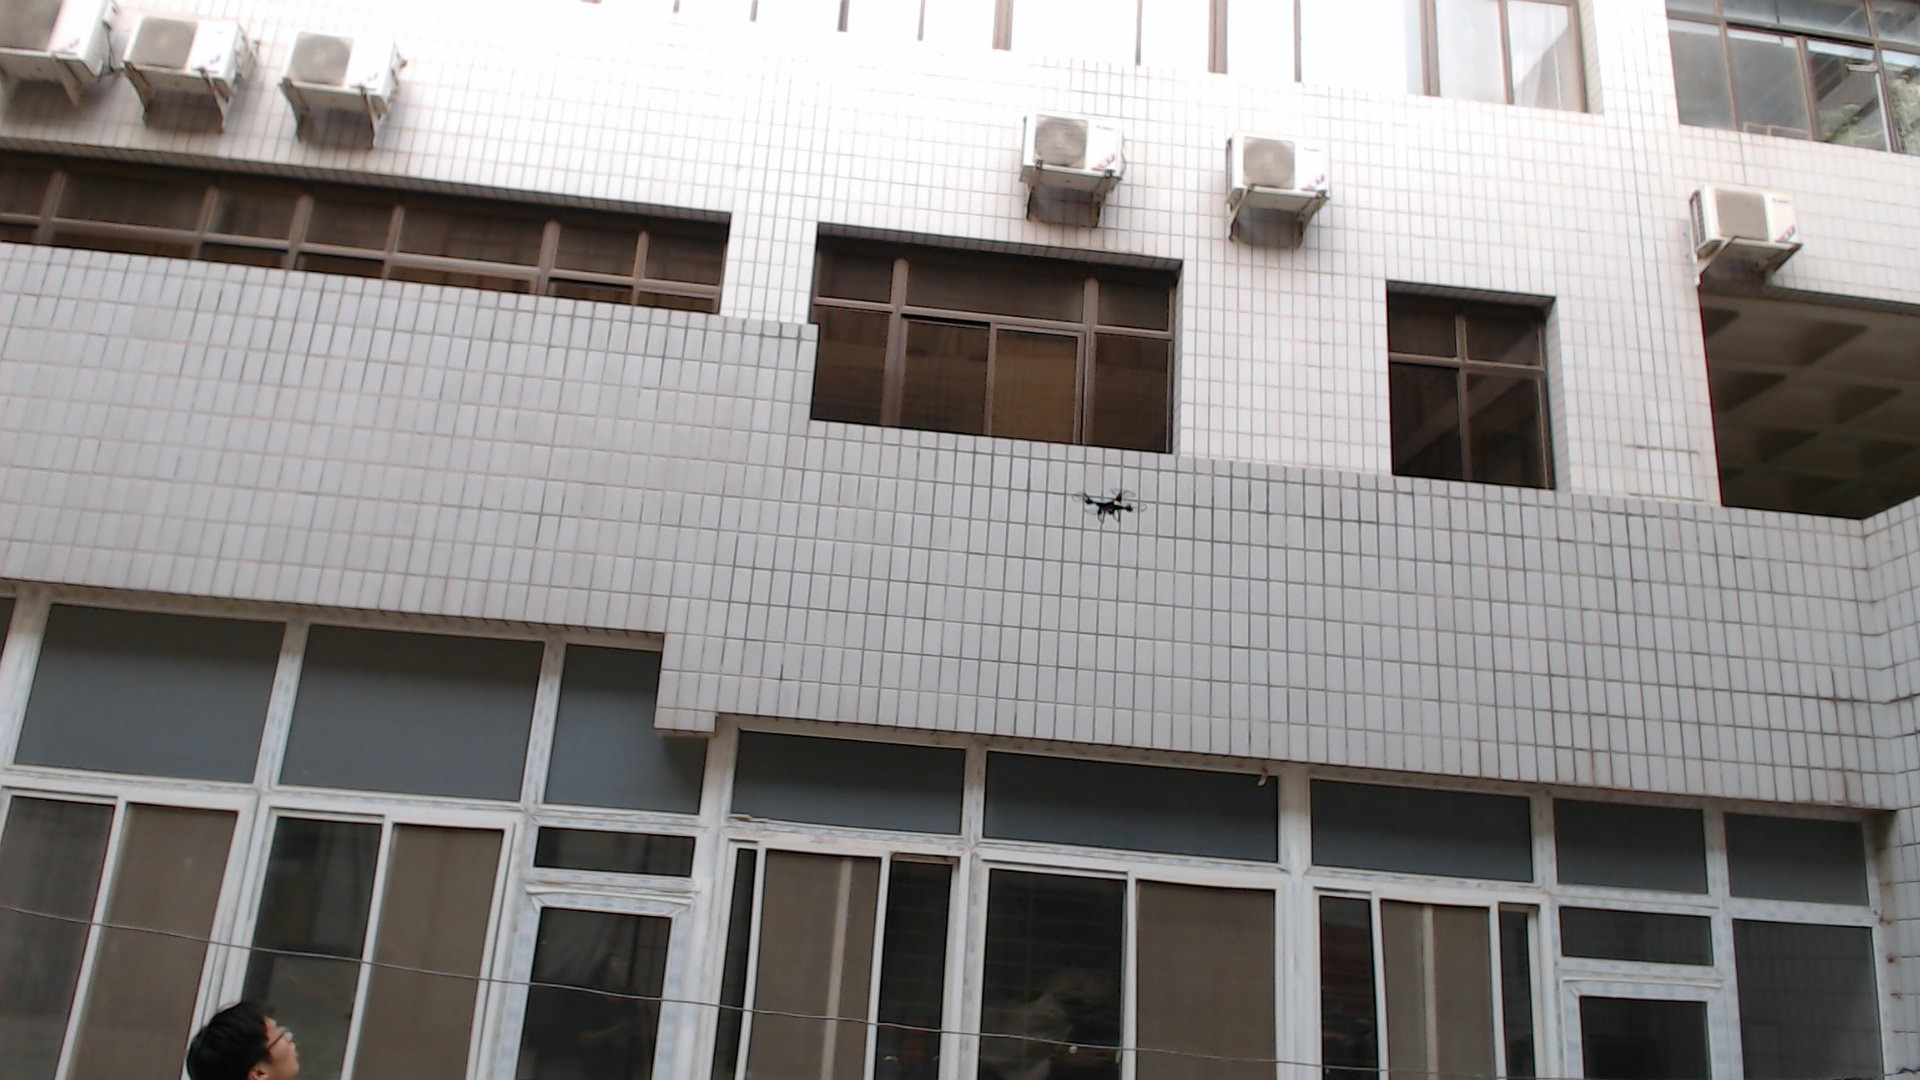drone: (1053, 466, 1158, 547)
person: (153, 978, 318, 1080)
